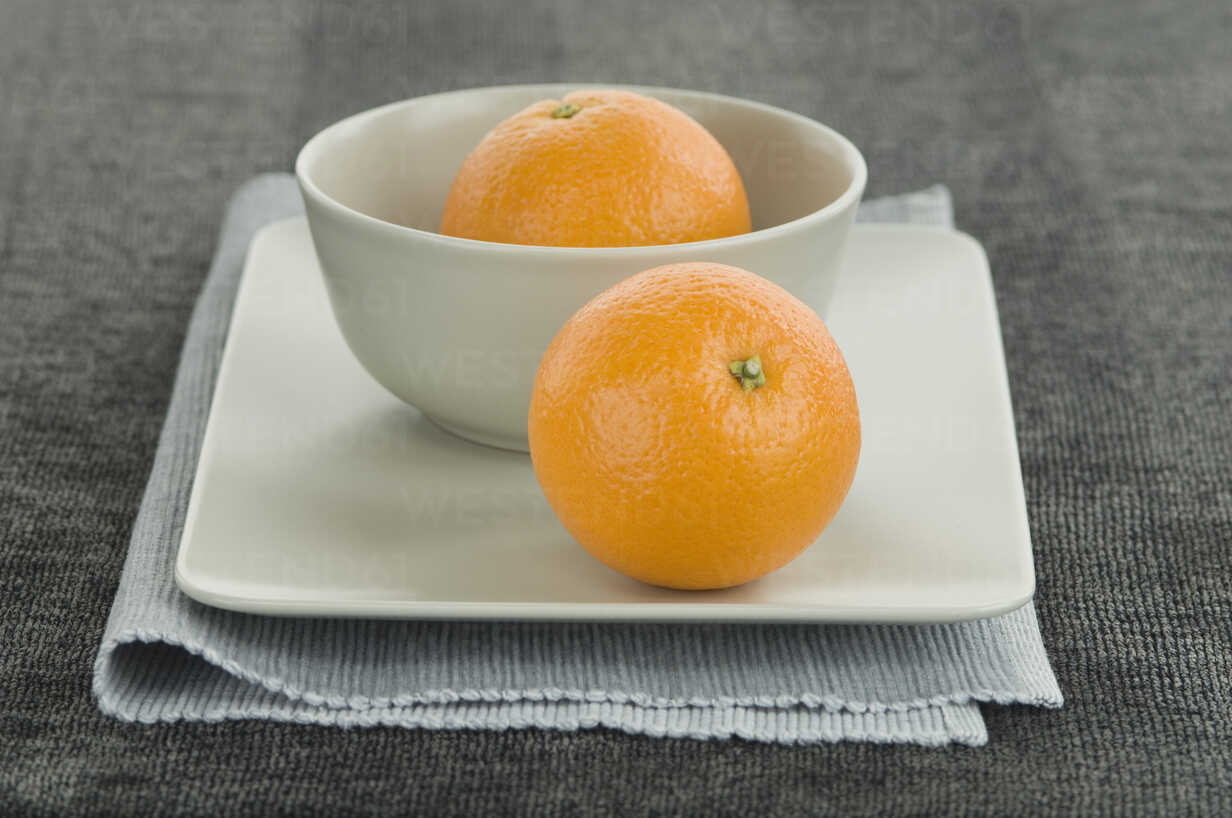Orange: (529, 262, 862, 590), (440, 89, 752, 245)
